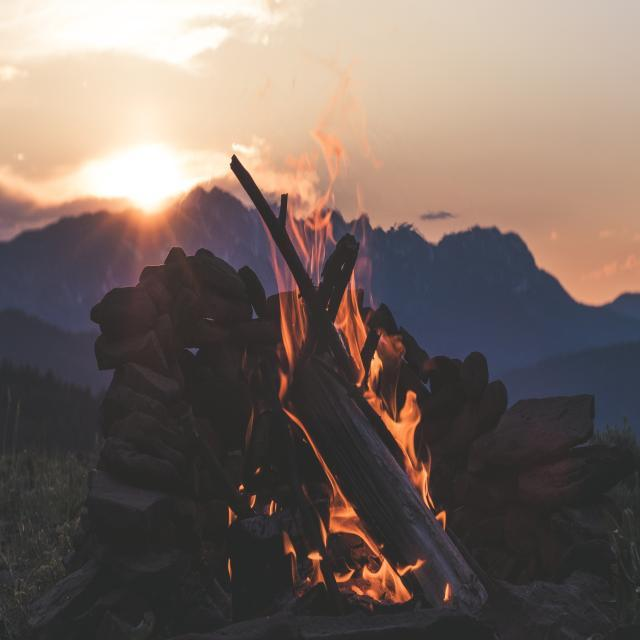Fire: (225, 78, 450, 610)
